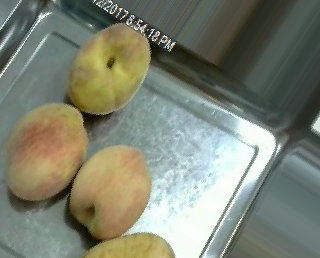Peach: (67, 144, 151, 240), (5, 102, 87, 200), (68, 23, 150, 113)
